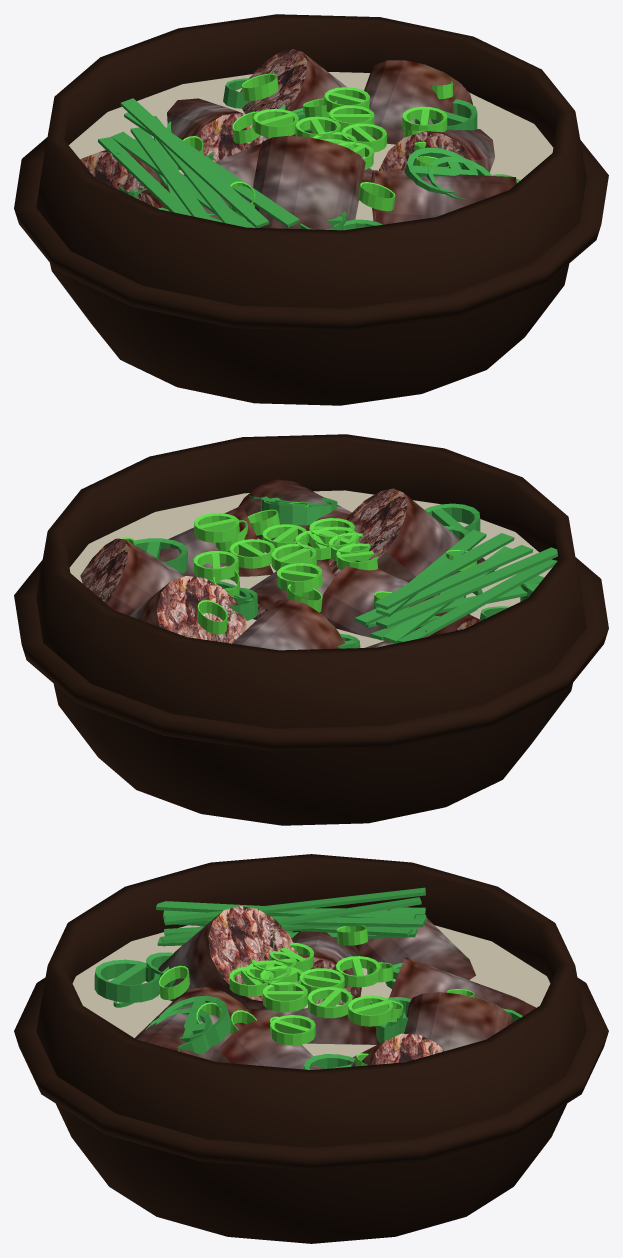
The model's file is Gukbap_Sundae.glb.
3 renders of one model, top to bottom at view 1: azimuth 30°, elevation 25°; view 2: azimuth 150°, elevation 25°; view 3: azimuth 270°, elevation 25°, orthographic.
Visible parts, largest first — view 1: Plate, Bite11, Bite1, Bite10, Bite5, Bite3, Bite6, Bite9, Bite4, Bite2, Bite8; view 2: Plate, Bite11, Bite1, Bite10, Bite5, Bite6, Bite8, Bite9, Bite4, Bite3, Bite7; view 3: Plate, Bite11, Bite1, Bite10, Bite6, Bite2, Bite4, Bite9, Bite3, Bite7, Bite8, Bite5.
Part boxes in pixels (x1,y1,x2,y2): Plate: [14, 14, 608, 405]; Bite11: [119, 73, 520, 230]; Bite1: [98, 98, 299, 227]; Bite10: [247, 135, 365, 229]; Bite5: [364, 60, 472, 144]; Bite3: [371, 170, 516, 224]; Bite6: [240, 49, 346, 113]; Bite9: [167, 98, 270, 161]; Bite4: [379, 129, 494, 172]; Bite2: [80, 138, 162, 192]; Bite8: [137, 143, 261, 220]; Plate: [14, 434, 608, 825]; Bite11: [122, 494, 532, 648]; Bite1: [354, 529, 557, 643]; Bite10: [328, 488, 494, 596]; Bite5: [80, 538, 185, 615]; Bite6: [129, 576, 247, 643]; Bite8: [319, 560, 479, 640]; Bite9: [232, 599, 345, 650]; Bite4: [159, 505, 273, 576]; Bite3: [238, 479, 351, 546]; Bite7: [249, 559, 335, 619]; Plate: [14, 854, 608, 1243]; Bite11: [94, 925, 522, 1069]; Bite1: [156, 887, 426, 946]; Bite10: [158, 906, 297, 1009]; Bite6: [404, 992, 513, 1051]; Bite2: [354, 906, 475, 979]; Bite4: [210, 1018, 324, 1069]; Bite9: [389, 957, 535, 1016]; Bite3: [135, 987, 248, 1059]; Bite7: [246, 1008, 379, 1044]; Bite8: [291, 931, 361, 1004]; Bite5: [349, 1033, 443, 1066].
Bounding box in the file's own units: 2.03 × 0.8204 × 2.03.
Materials: 5 (1 with a texture image).
